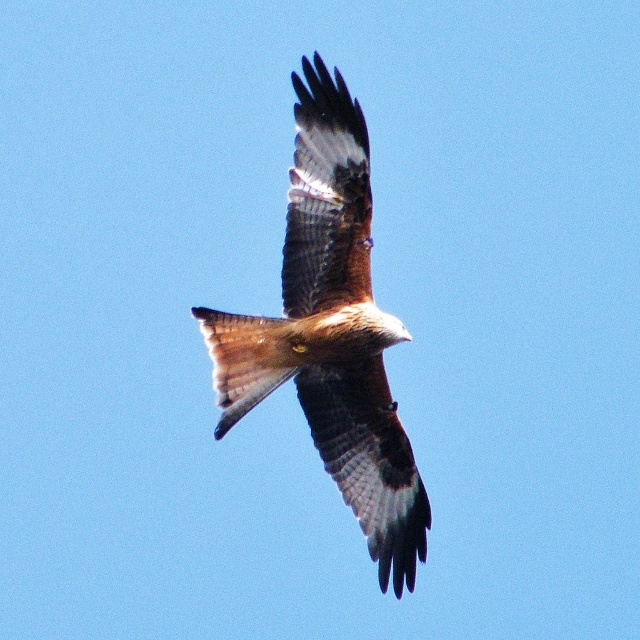Eagle: (191, 51, 432, 601)
